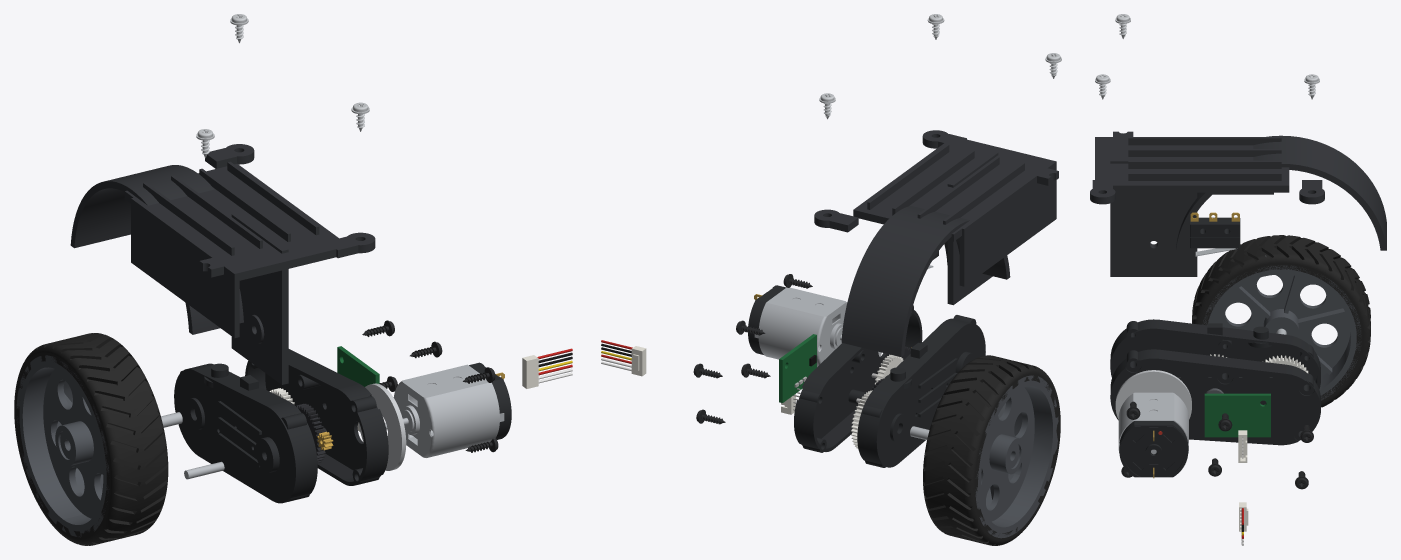
File: wheel-module-exploded.glb
3 views of the same model, side by side, from view 1: azimuth 30°, elevation 25°; view 2: azimuth 150°, elevation 25°; view 3: azimuth 270°, elevation 25° (orthographic). The views are drawn at different scales.
Parts seen in each view (by area): view 1: frame, tyre, arm_pivot, hub, lid_gearbox, can, motor_plate, hall_pcb, endcap; view 2: frame, tyre, hub, arm_pivot, lid_gearbox, can, hall_pcb, endcap; view 3: frame, lid_gearbox, hub, tyre, arm_pivot, endcap, hall_pcb, can, motor_plate, body.
Boxes of the visible parts, x1,y1,x2,y2 form: frame: [70, 144, 375, 384]; tyre: [14, 333, 168, 545]; arm_pivot: [174, 363, 317, 503]; hub: [16, 355, 109, 537]; lid_gearbox: [245, 349, 388, 485]; can: [393, 364, 504, 457]; motor_plate: [358, 383, 406, 470]; hall_pcb: [337, 346, 379, 386]; endcap: [469, 362, 511, 439]; frame: [814, 130, 1058, 356]; tyre: [923, 355, 1060, 545]; hub: [975, 375, 1058, 538]; arm_pivot: [857, 315, 985, 467]; lid_gearbox: [794, 305, 922, 452]; can: [754, 287, 847, 366]; hall_pcb: [779, 334, 816, 402]; endcap: [748, 285, 786, 354]; frame: [1090, 131, 1386, 276]; lid_gearbox: [1110, 349, 1320, 445]; hub: [1202, 265, 1361, 400]; tyre: [1192, 235, 1370, 407]; arm_pivot: [1110, 319, 1320, 389]; endcap: [1119, 421, 1188, 477]; hall_pcb: [1204, 393, 1270, 437]; can: [1118, 392, 1189, 453]; motor_plate: [1115, 370, 1191, 419]; body: [1190, 217, 1240, 249].
Bounding box in the file's own units: 0.1901 × 0.1729 × 0.1163.
